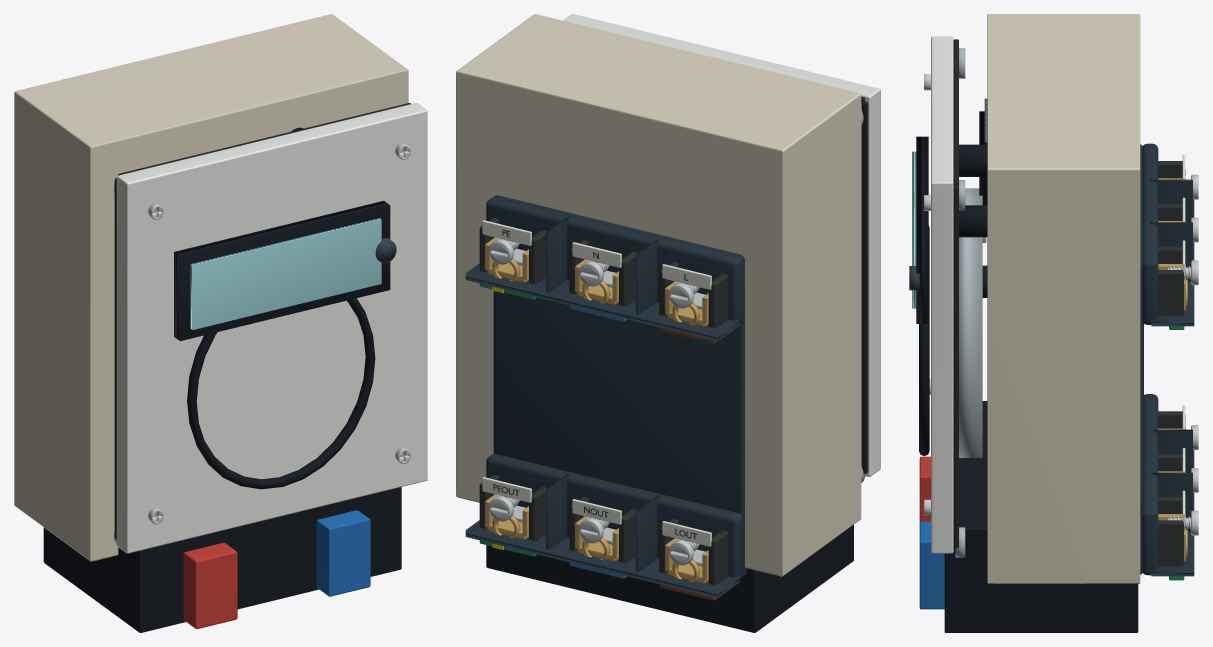
Rendered from meter_default.glb.
3 renders of one model, left to right at view 1: azimuth 30°, elevation 25°; view 2: azimuth 150°, elevation 25°; view 3: azimuth 270°, elevation 25°, orthographic. The views are drawn at different scales.
Visible parts, largest first — view 1: part:cover, part:body, part:display, part:body.002, detail:enclosure-gasket-and-fixings · Detail rubber gasket, detail:enclosure-gasket-and-fixings · Detail zinc plated fix; view 2: part:body, part:terminals · Original a463fd81, part:cover, detail:enclosure-gasket-and-fixings · Detail rubber gasket, detail:terminal-clamp:L · Detail moulded engineering polymer, detail:terminal-clamp:LOUT · Detail moulded engineering poly, detail:terminal-clamp:PEOUT · Detail moulded engineering pol, detail:terminal-clamp:PE · Detail moulded engineering polyme, detail:terminal-clamp:N · Detail moulded engineering polymer, detail:terminal-clamp:NOUT · Detail moulded engineering poly, detail:terminal-clamp:LOUT · Detail machined brass, detail:terminal-clamp:N · Detail machined brass (+16 smaller); view 3: part:body, part:cover, part:terminals · Original a463fd81, part:body.001, detail:enclosure-gasket-and-fixings · Detail rubber gasket, part:display, part:body.002, part:electronics · Original 3ff2d46d, detail:terminal-clamp:PEOUT · Detail moulded engineering pol, detail:terminal-clamp:PE · Detail moulded engineering polyme, part:mounting · Original 2a8198d3, detail:terminal-clamp:L · Detail moulded engineering polymer (+3 smaller).
Part boxes in pixels (<box>): part:cover: <box>116,103,427,553</box>; part:body: <box>14,14,408,632</box>; part:display: <box>174,201,390,341</box>; part:body.002: <box>183,510,370,629</box>; detail:enclosure-gasket-and-fixings · Detail rubber gasket: <box>114,103,410,539</box>; detail:enclosure-gasket-and-fixings · Detail zinc plated fix: <box>148,143,410,524</box>; part:body: <box>456,14,861,632</box>; part:terminals · Original a463fd81: <box>465,195,746,598</box>; part:cover: <box>563,14,880,476</box>; detail:enclosure-gasket-and-fixings · Detail rubber gasket: <box>861,96,868,473</box>; detail:terminal-clamp:L · Detail moulded engineering polymer: <box>659,261,728,328</box>; detail:terminal-clamp:LOUT · Detail moulded engineering poly: <box>659,518,728,585</box>; detail:terminal-clamp:PEOUT · Detail moulded engineering pol: <box>479,474,547,541</box>; detail:terminal-clamp:PE · Detail moulded engineering polyme: <box>479,218,547,284</box>; detail:terminal-clamp:N · Detail moulded engineering polymer: <box>569,240,637,306</box>; detail:terminal-clamp:NOUT · Detail moulded engineering poly: <box>569,496,636,563</box>; detail:terminal-clamp:LOUT · Detail machined brass: <box>665,538,708,583</box>; detail:terminal-clamp:N · Detail machined brass: <box>575,259,618,304</box>; part:body: <box>944,14,1140,632</box>; part:cover: <box>919,36,953,553</box>; part:terminals · Original a463fd81: <box>1140,143,1194,576</box>; part:body.001: <box>959,188,982,457</box>; detail:enclosure-gasket-and-fixings · Detail rubber gasket: <box>953,39,958,550</box>; part:display: <box>912,136,928,323</box>; part:body.002: <box>919,456,944,609</box>; part:electronics · Original 3ff2d46d: <box>959,111,987,297</box>; detail:terminal-clamp:PEOUT · Detail moulded engineering pol: <box>1158,496,1184,566</box>; detail:terminal-clamp:PE · Detail moulded engineering polyme: <box>1158,246,1184,315</box>; part:mounting · Original 2a8198d3: <box>955,48,965,557</box>; detail:terminal-clamp:L · Detail moulded engineering polymer: <box>1158,161,1182,178</box>.
Size of the model in its own units: 0.77 by 1.1 by 0.6053.
